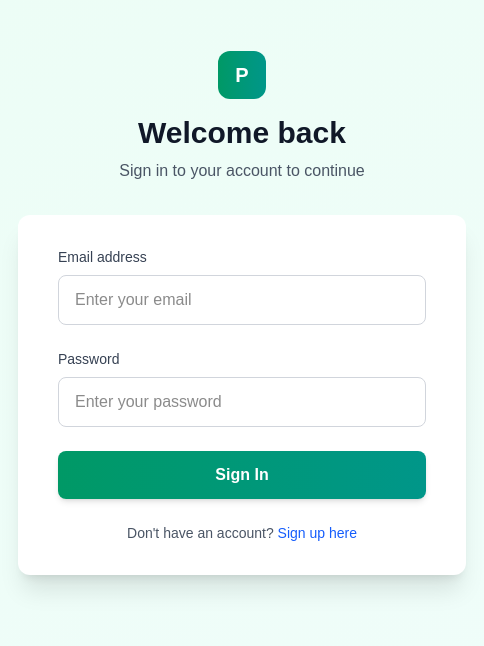
Test: Login Component › should display an error message when login fails
Fill out the form
Type "wrong@example.com" into the field labelled "Email address" at (242, 300), box [58, 275, 426, 325]
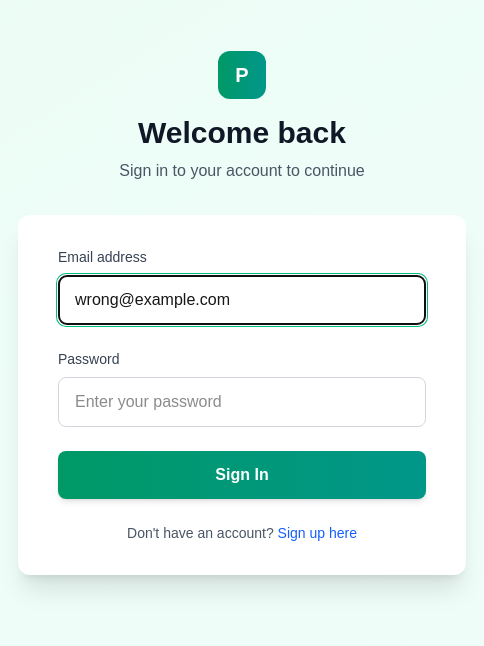
Type "wrongpassword" into the password field labelled "Password" at (242, 402), box [58, 377, 426, 427]
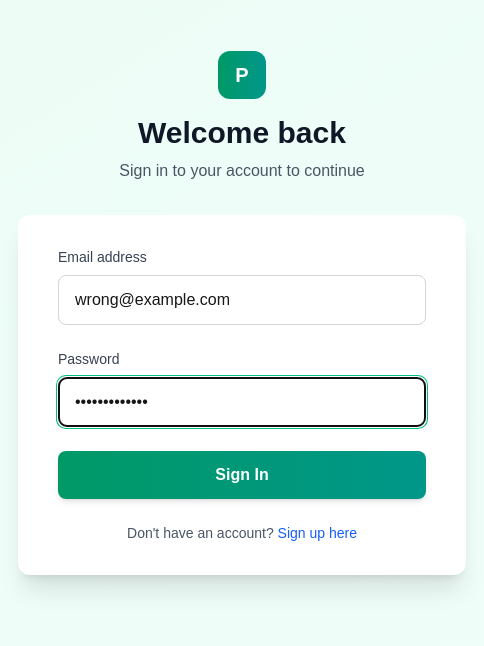
Submit the form
Click the button "Sign In" at (242, 475), box [58, 451, 426, 499]
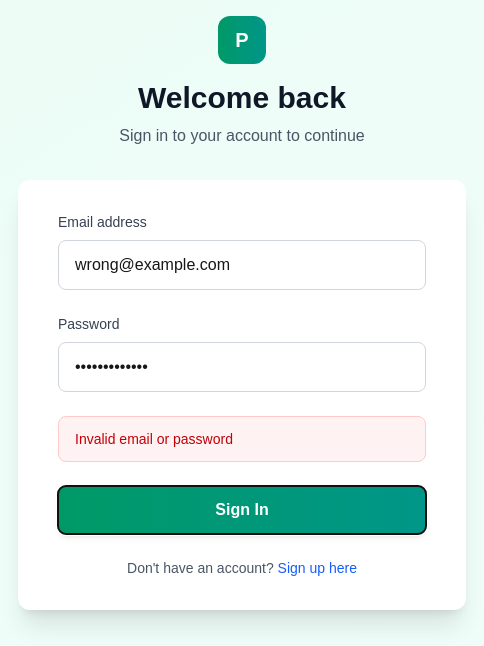
Result: the text "Invalid email or password" is shown at [58, 416, 426, 462]
